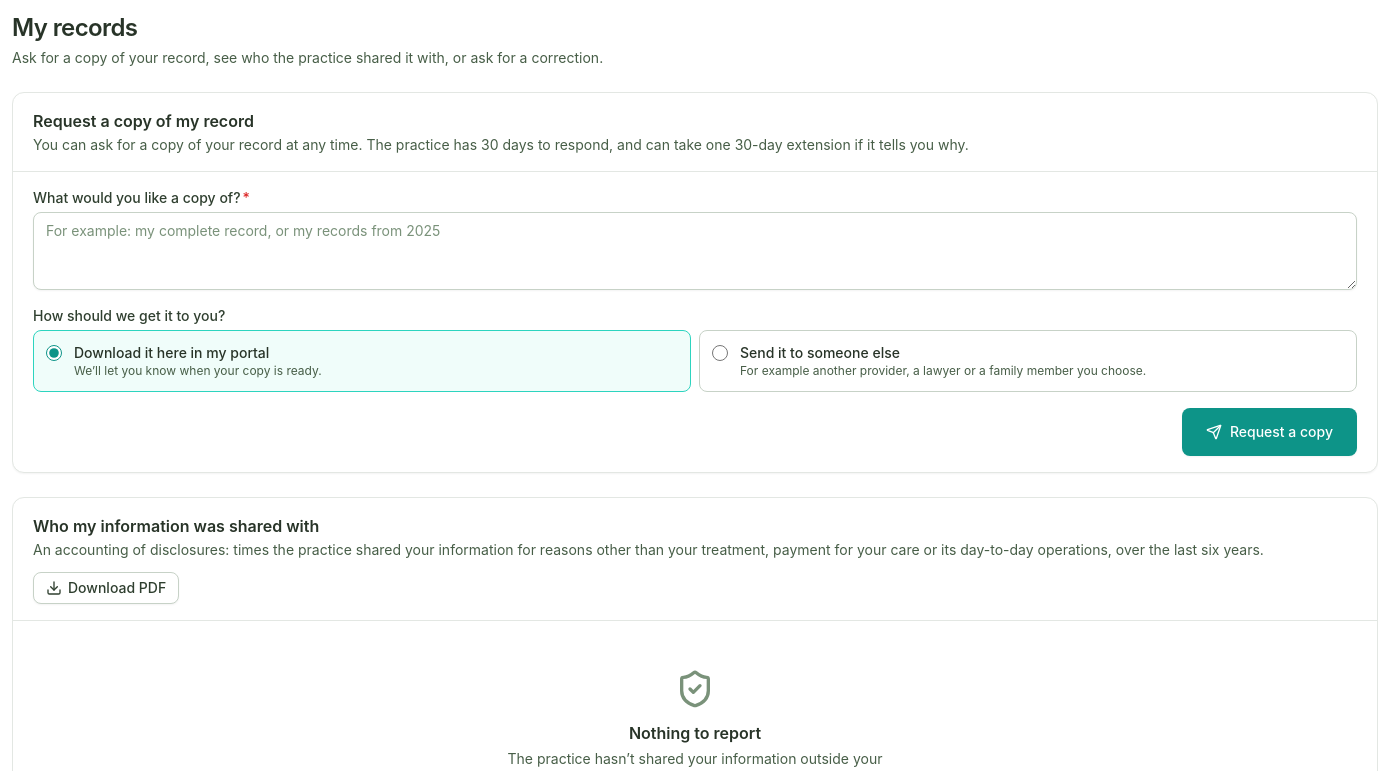
ClientRecordsPage › requesting a copy › requires what to copy
The image size is (1378, 771).
Click the button "Request a copy" at (1269, 432), box [1182,408,1357,456]
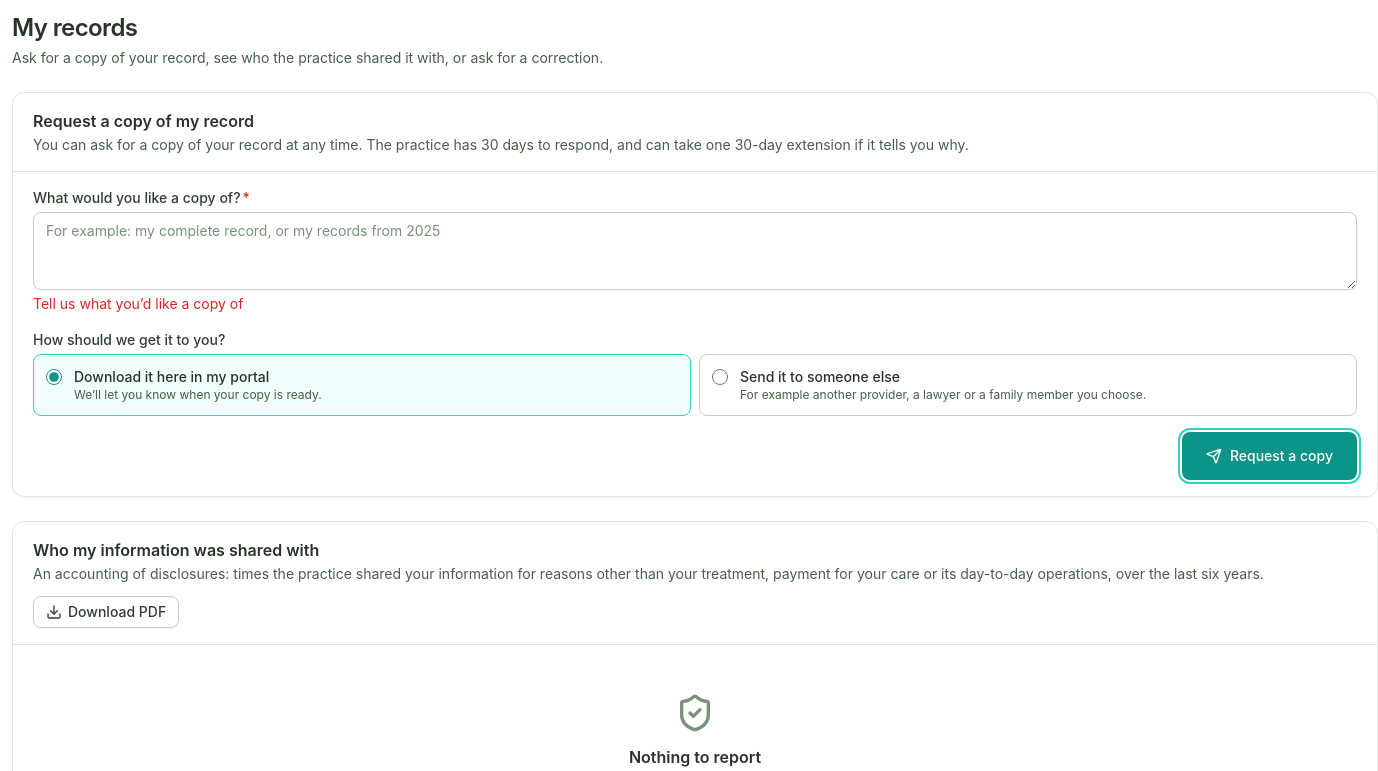
Expected: the text "Tell us what you’d like a copy of" is shown, [33,295,243,312]
